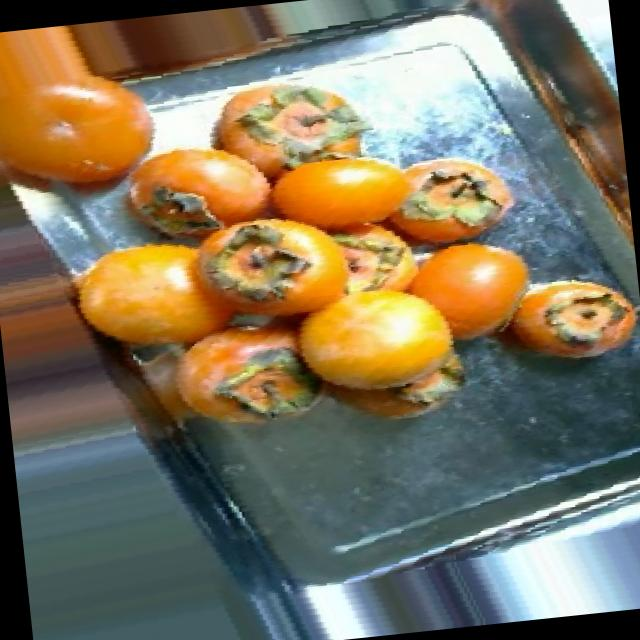Fruit: (51, 236, 247, 378), (377, 224, 553, 368), (495, 259, 640, 381)
